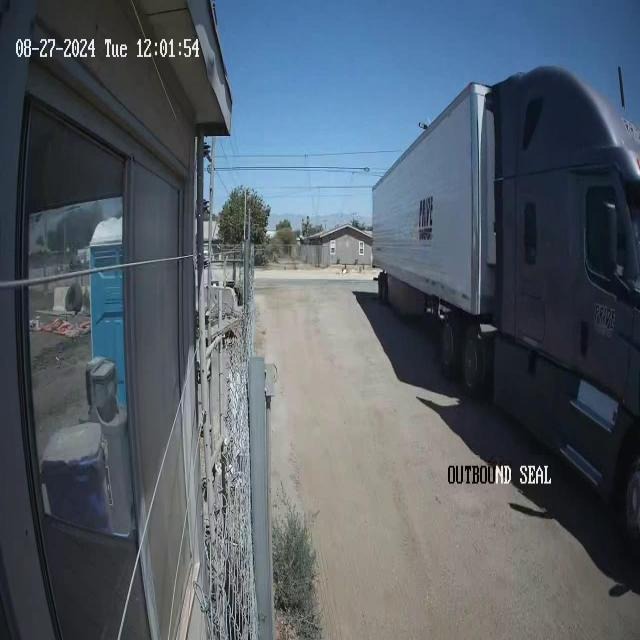TRUCK_CONTAINER: (371, 63, 639, 516)
